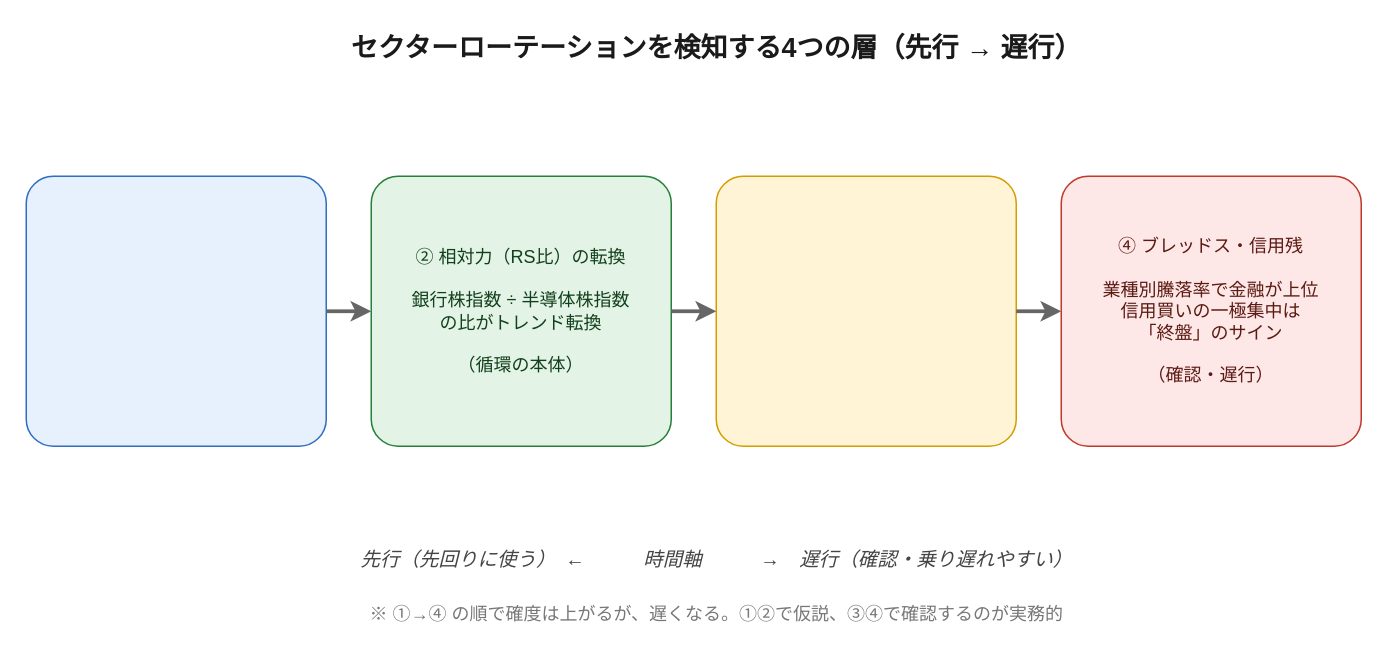
The diagram is 1388 pixels wide and 657 high, and some of its shapes have lost their labels. The centre of each missing label's shape, as x and y in pixels:
"① マクロ先行変数 長期金利↑ イールドカーブの スティープ化 （循環の上流）" goes at point (175, 310).
"③ 出来高の裏付け 買われる側は大商いで上昇 売られる側は投げ売り （本物度の確認）" goes at point (865, 310).
